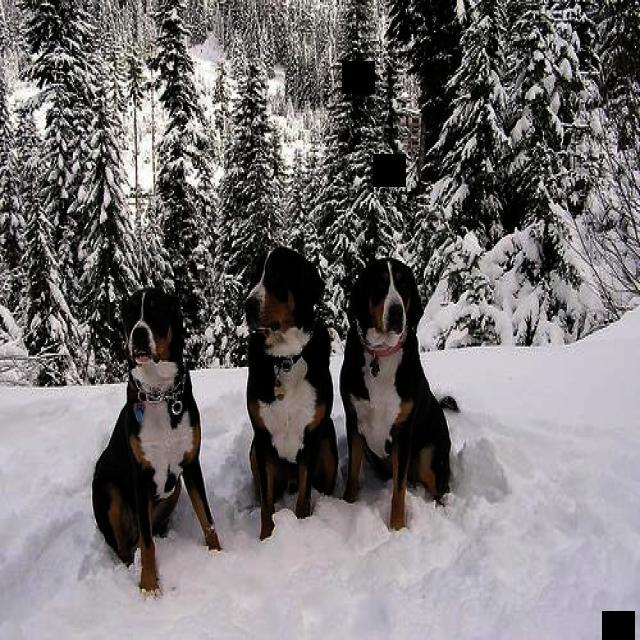adult_dog: (91, 286, 223, 597), (334, 256, 461, 534), (245, 246, 342, 540)
